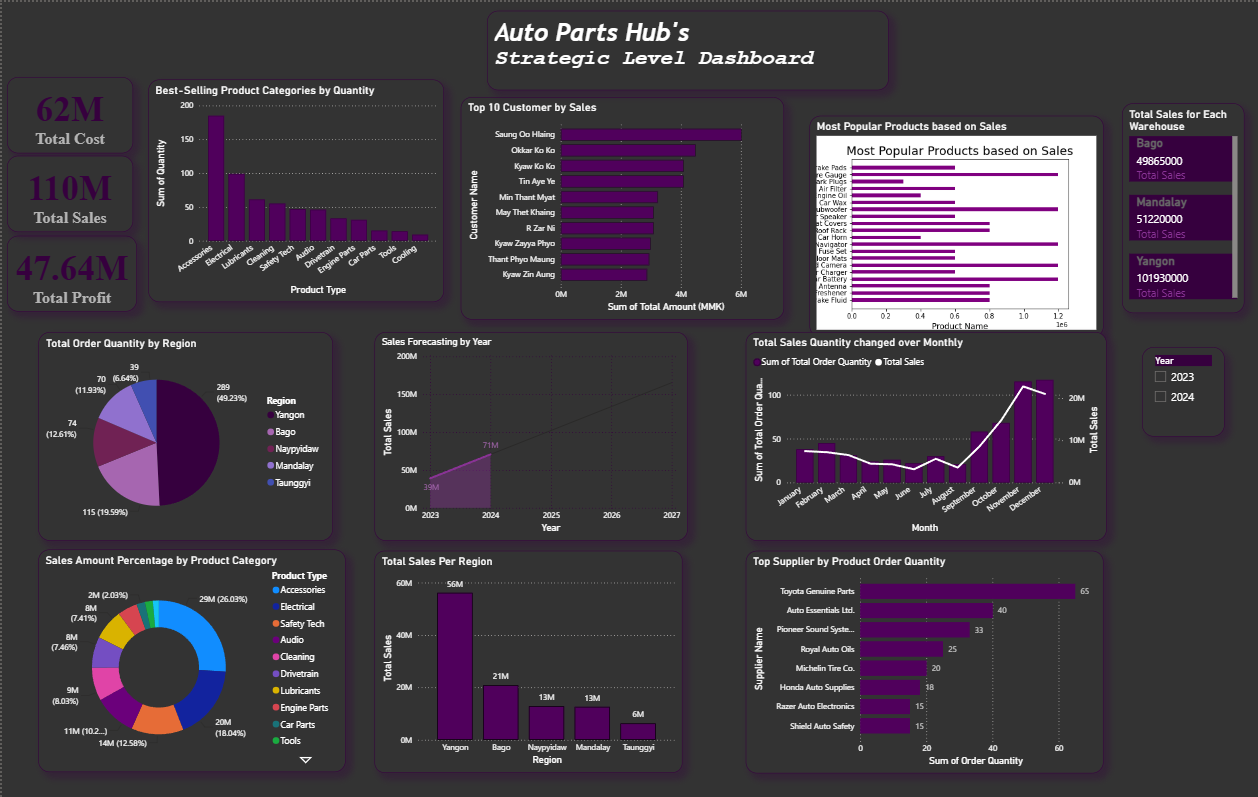

The page's visual inventory and layout, read from the dashboard file:
{"tool":"powerbi","page":{"name":"Strategic_Level_Dashboard ","canvas":[1900,1800],"ordinal":0},"visuals":[{"type":"card","fields":{"Values":["Inventory Table.Total Cost"]},"box":[7.4,113.9,190,115],"z":0},{"type":"card","fields":{"Values":["Order Table.Total Profit"]},"box":[7.4,351.9,196,114],"z":1000},{"type":"card","fields":{"Values":["Order Table.Total Sales"]},"box":[7.4,232.9,190,115],"z":2000},{"type":"pieChart","title":"Total Order Quantity by Region","fields":{"Category":["Customer Table.Region"],"Y":["Sum(Order Table.Total Order Quantity)"]},"box":[55,497.5,445,315],"z":3000},{"type":"multiRowCard","title":"Total Sales for Each Warehouse","fields":{"Values":["Inventory Table.Warehouse Location","Order Table.Total Sales"]},"box":[1690,153.3,185,316.7],"z":4000},{"type":"slicer","fields":{"Values":["Order Table.Order Date.Variation.Date Hierarchy.Year"]},"box":[1721.7,520,125,135],"z":5000},{"type":"pythonVisual","title":"Most Popular Products based on Sales","fields":{"Values":["Inventory Table.Product Name","Order Detail Table.Subtotal (MMK)"]},"box":[1218.6,171.4,444.3,334.3],"z":6000},{"type":"clusteredColumnChart","title":"Best-Selling Product Categories by Quantity","fields":{"Category":["Inventory Table.Product Type"],"Y":["Sum(Order Detail Table.Quantity)"]},"box":[221,117,446,336],"z":7000},{"type":"barChart","title":"Top 10 Customer by Sales","fields":{"Category":["Customer Table.Customer Name"],"Y":["Sum(Order Table.Total Amount (MMK))"]},"box":[692,144,488,336],"z":8000},{"type":"clusteredBarChart","title":"Top Supplier by Product Order Quantity","fields":{"Category":["Supplier Table.Supplier Name"],"Y":["Sum(Supplier Orders Table.Order Quantity)"]},"box":[1122.5,827.5,540,336.2],"z":9000},{"type":"lineChart","title":"Sales Forecasting by Year","fields":{"Category":["Order Table.Order Date.Variation.Date Hierarchy.Year"],"Y":["Order Table.Total Sales"]},"box":[562.5,497.5,472.5,315],"z":10000},{"type":"lineClusteredColumnComboChart","title":"Total Sales Quantity changed over Monthly","fields":{"Category":["Order Table.Order Date.Variation.Date Hierarchy.Month"],"Y":["Sum(Order Table.Total Order Quantity)"],"Y2":["Order Table.Total Sales"]},"box":[1122.7,497.3,544.5,315.5],"z":11000},{"type":"donutChart","title":"Sales Amount Percentage by Product Category","fields":{"Category":["Inventory Table.Product Type"],"Y":["Sum(Order Detail Table.Subtotal (MMK))"]},"box":[55,826.2,463.8,336.2],"z":12000},{"type":"columnChart","title":"Total Sales Per Region","fields":{"Category":["Customer Table.Region"],"Y":["Order Table.Total Sales"]},"box":[562.5,827.5,465,335],"z":13000},{"type":"textbox","box":[732,14,606,120],"z":14000}]}

Visuals, with their boxes on the page's 1900x1800 design canvas (x1, y1, x2, y2). These are canvas units, not pixel positions in the 1258x797 screenshot, which may show the page scaled, cropped or inside an application window:
card - Inventory Table.Total Cost: x1=7 y1=114 x2=197 y2=229
card - Order Table.Total Profit: x1=7 y1=352 x2=203 y2=466
card - Order Table.Total Sales: x1=7 y1=233 x2=197 y2=348
"Total Order Quantity by Region" pieChart: x1=55 y1=498 x2=500 y2=812
"Total Sales for Each Warehouse" multiRowCard: x1=1690 y1=153 x2=1875 y2=470
slicer - Order Table.Order Date.Variation.Date Hierarchy.Year: x1=1722 y1=520 x2=1847 y2=655
"Most Popular Products based on Sales" pythonVisual: x1=1219 y1=171 x2=1663 y2=506
"Best-Selling Product Categories by Quantity" clusteredColumnChart: x1=221 y1=117 x2=667 y2=453
"Top 10 Customer by Sales" barChart: x1=692 y1=144 x2=1180 y2=480
"Top Supplier by Product Order Quantity" clusteredBarChart: x1=1122 y1=828 x2=1662 y2=1164
"Sales Forecasting by Year" lineChart: x1=562 y1=498 x2=1035 y2=812
"Total Sales Quantity changed over Monthly" lineClusteredColumnComboChart: x1=1123 y1=497 x2=1667 y2=813
"Sales Amount Percentage by Product Category" donutChart: x1=55 y1=826 x2=519 y2=1162
"Total Sales Per Region" columnChart: x1=562 y1=828 x2=1028 y2=1162
textbox: x1=732 y1=14 x2=1338 y2=134
